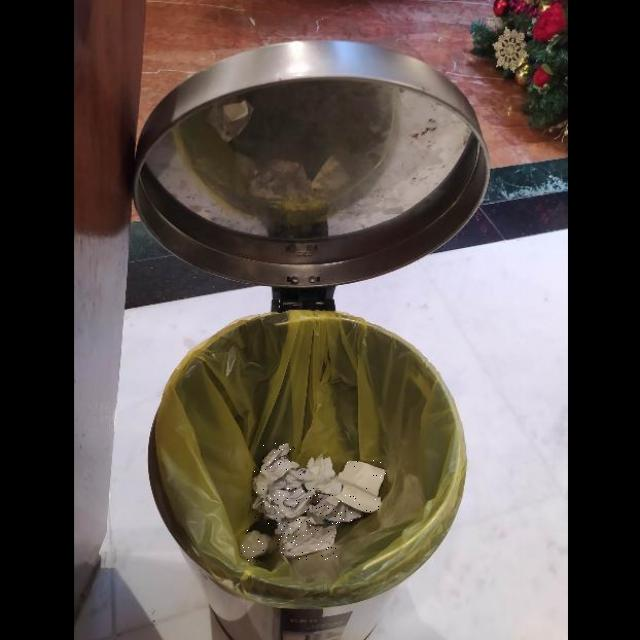paper: (336, 461, 386, 513), (277, 517, 337, 560), (252, 472, 304, 518), (291, 453, 342, 495), (265, 485, 314, 525), (307, 494, 362, 524), (261, 444, 300, 481), (241, 530, 270, 562)
